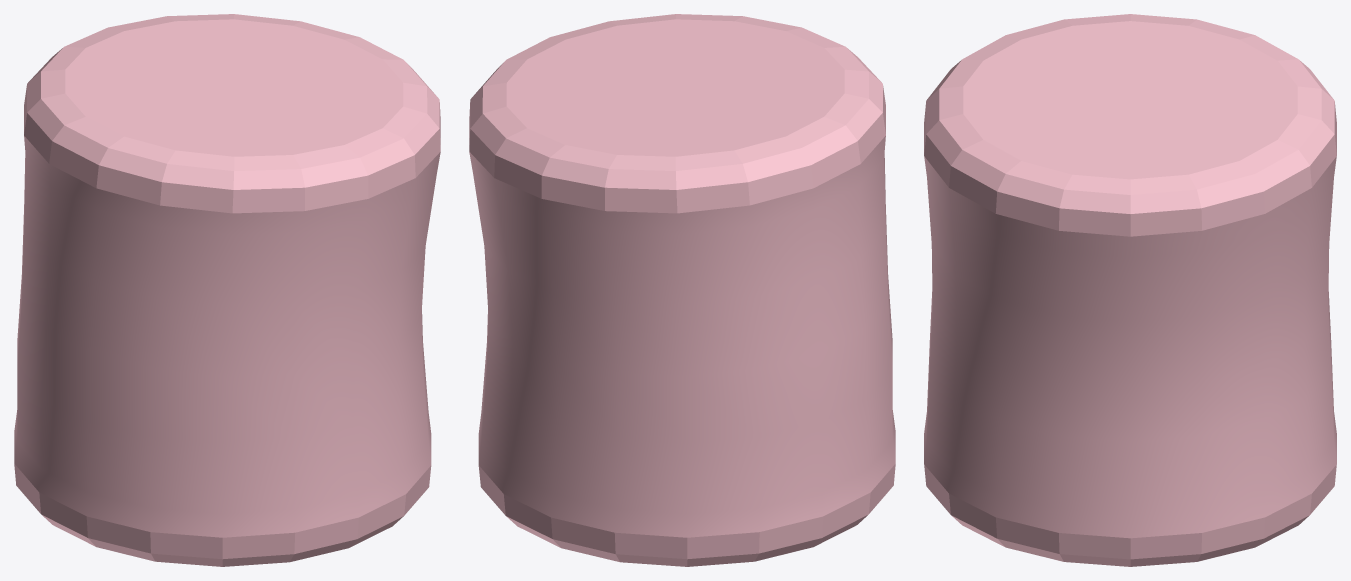
File: marshmallow.FBX
3 renders of one model, left to right at view 1: azimuth 30°, elevation 25°; view 2: azimuth 150°, elevation 25°; view 3: azimuth 270°, elevation 25°, orthographic.
Parts seen in each view (by area): view 1: Cylinder001; view 2: Cylinder001; view 3: Cylinder001.
Boxes of the visible parts, bbox=[...] form: Cylinder001: bbox=[14, 14, 440, 566]; Cylinder001: bbox=[469, 14, 895, 566]; Cylinder001: bbox=[924, 14, 1336, 566].
Size of the model in its own units: 111 by 115 by 107.
